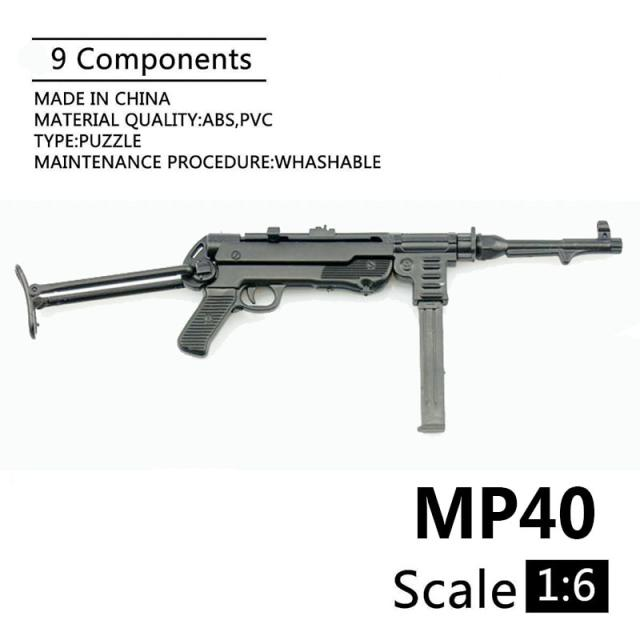SMG: (14, 222, 624, 435)
